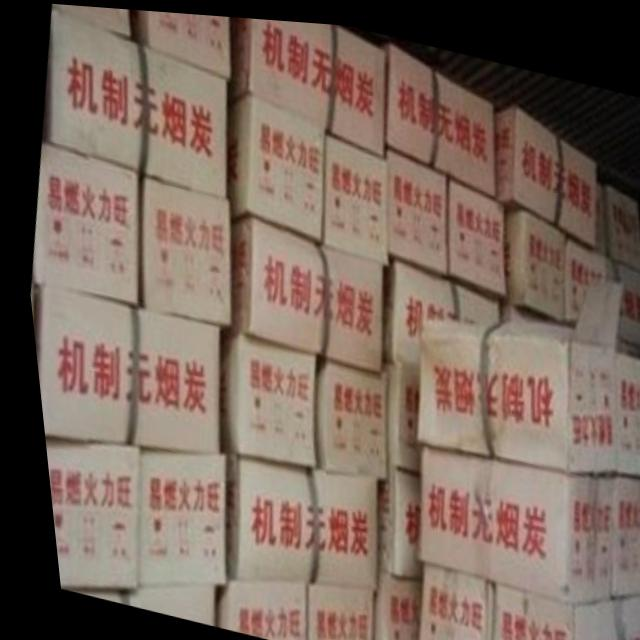box: (38, 4, 226, 195), (25, 286, 214, 454), (407, 437, 608, 591), (406, 315, 606, 461), (210, 432, 369, 584), (223, 214, 378, 369), (227, 13, 385, 152), (24, 143, 136, 309), (384, 41, 495, 191), (224, 86, 324, 238), (36, 436, 129, 587), (209, 324, 307, 465), (135, 171, 225, 322), (378, 252, 502, 360), (494, 96, 591, 231), (125, 447, 216, 582), (477, 575, 640, 640), (204, 577, 367, 640), (314, 122, 385, 260), (304, 349, 379, 469), (384, 145, 445, 270), (501, 194, 564, 313), (443, 169, 502, 296), (131, 8, 230, 79), (405, 556, 482, 640), (203, 577, 294, 640), (597, 463, 640, 590), (369, 458, 413, 572), (604, 338, 640, 464), (110, 582, 205, 623), (360, 564, 410, 640), (598, 250, 640, 337), (563, 220, 601, 314), (603, 183, 637, 261), (56, 3, 131, 37)
